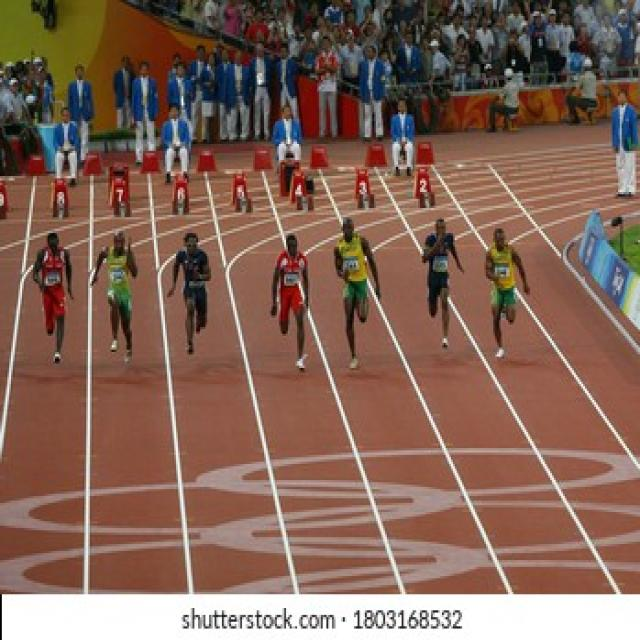running: (333, 215, 385, 369), (89, 226, 142, 366), (417, 213, 467, 349), (482, 222, 530, 358), (270, 232, 312, 378), (166, 232, 213, 358), (31, 230, 73, 364)
